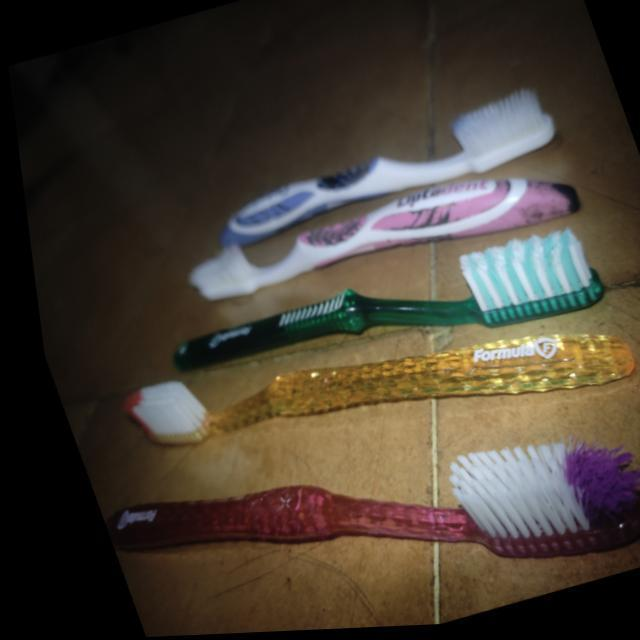toothbrush: (95, 444, 640, 566), (152, 234, 596, 379), (112, 332, 624, 450), (220, 93, 559, 248), (183, 181, 577, 307)
